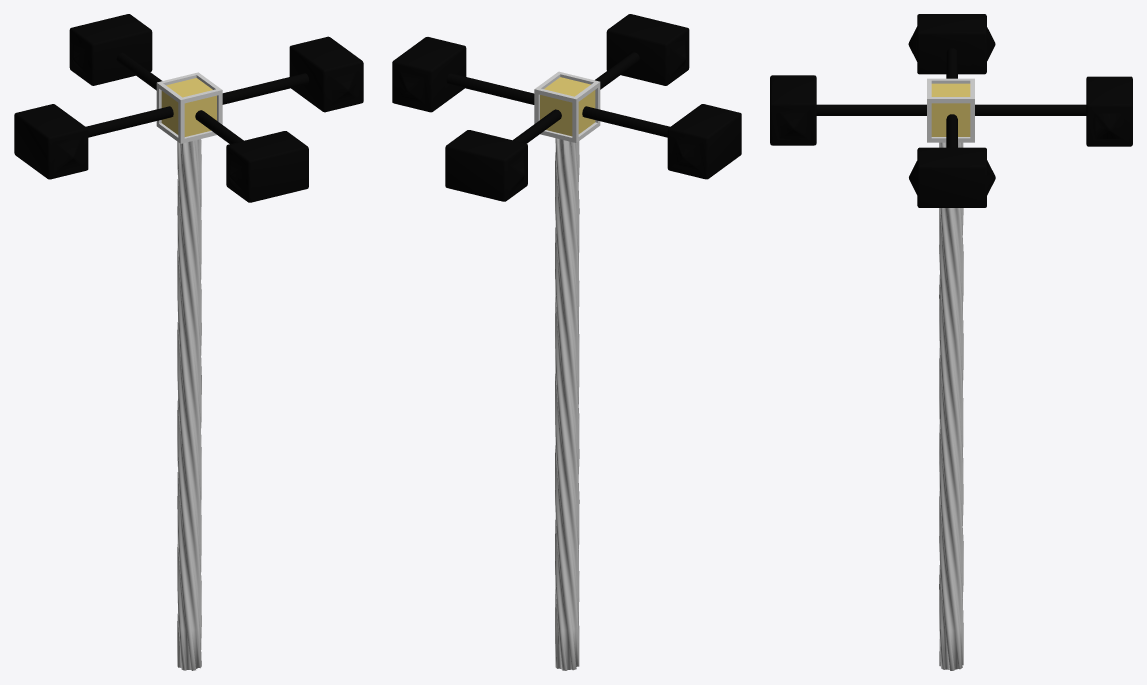
The model's file is Mazos Giratorios.fbx.
3 renders of one model, left to right at view 1: azimuth 30°, elevation 25°; view 2: azimuth 150°, elevation 25°; view 3: azimuth 270°, elevation 25°, orthographic.
Parts seen in each view (by area): view 1: Mazos, SoporteDeMetal; view 2: Mazos, SoporteDeMetal; view 3: Mazos, SoporteDeMetal.
Boxes of the visible parts, x1,y1,x2,y2 form: Mazos: (14, 14, 363, 202); SoporteDeMetal: (177, 139, 201, 670); Mazos: (392, 14, 741, 201); SoporteDeMetal: (555, 138, 579, 670); Mazos: (770, 14, 1132, 207); SoporteDeMetal: (939, 142, 963, 670).
Size of the model in its own units: 184 by 324 by 184.
